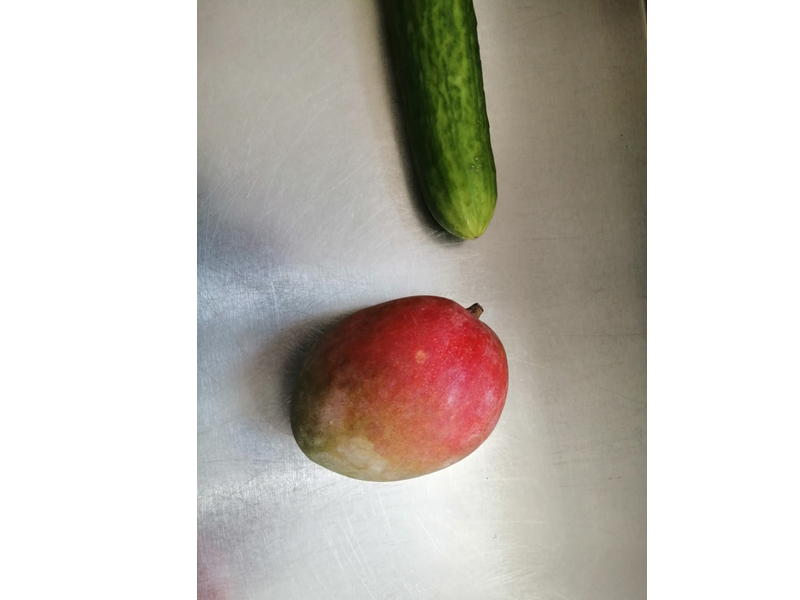mango: (277, 282, 528, 508)
